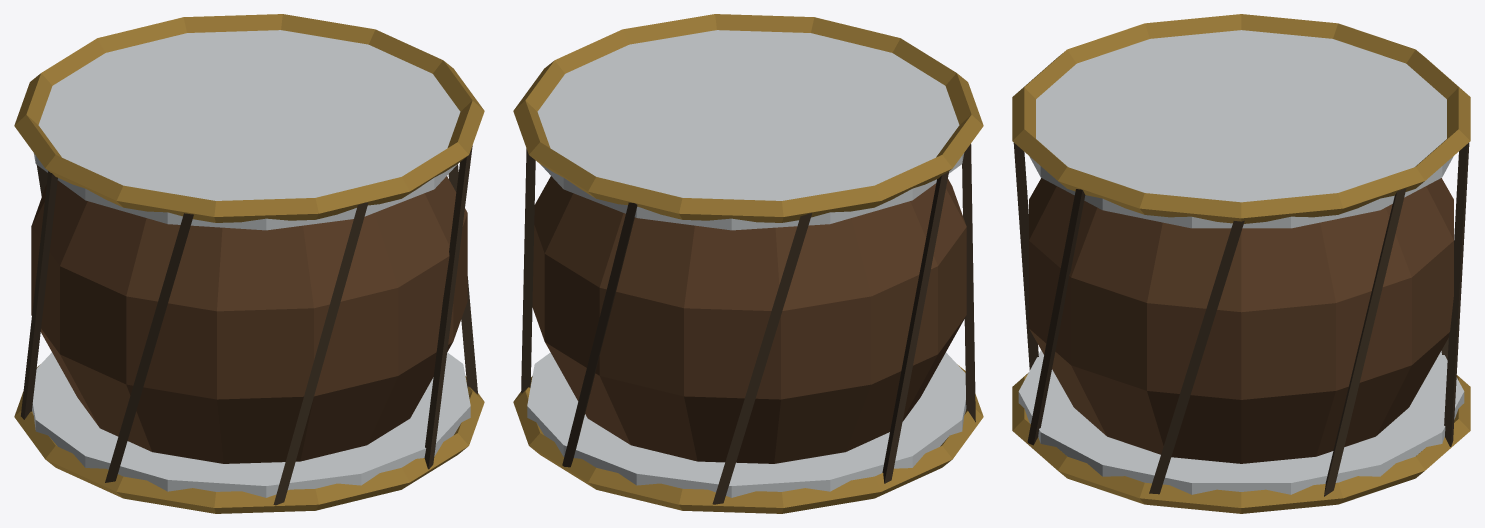
Rendered from drum.glb.
The picture shows the model from 3 angles, left to right: view 1: azimuth 30°, elevation 25°; view 2: azimuth 150°, elevation 25°; view 3: azimuth 270°, elevation 25°; orthographic projection.
Visible parts, largest first — view 1: m; view 2: m; view 3: m.
Boxes of the visible parts, x1=… form: m: x1=14, y1=14, x2=484, y2=513; m: x1=513, y1=14, x2=983, y2=513; m: x1=1012, y1=14, x2=1470, y2=513.
Size of the model in its own units: 0.19 by 0.1391 by 0.1854.
